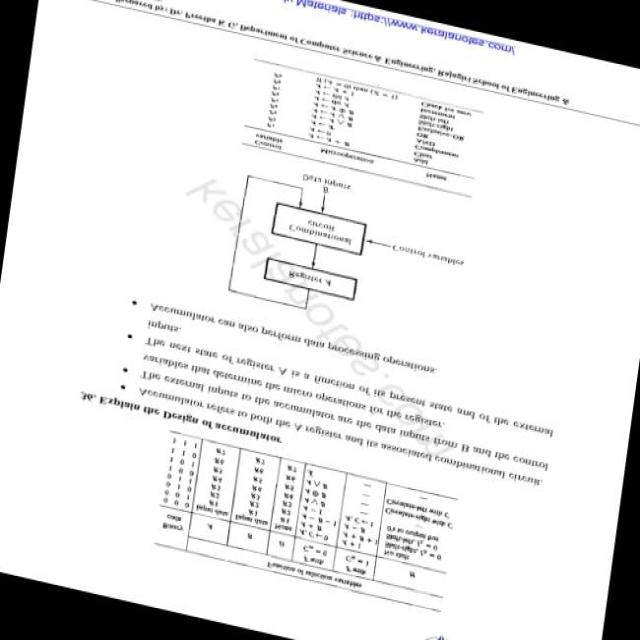Figure Detection - v3 Dataset Version2: (211, 150, 484, 359)
